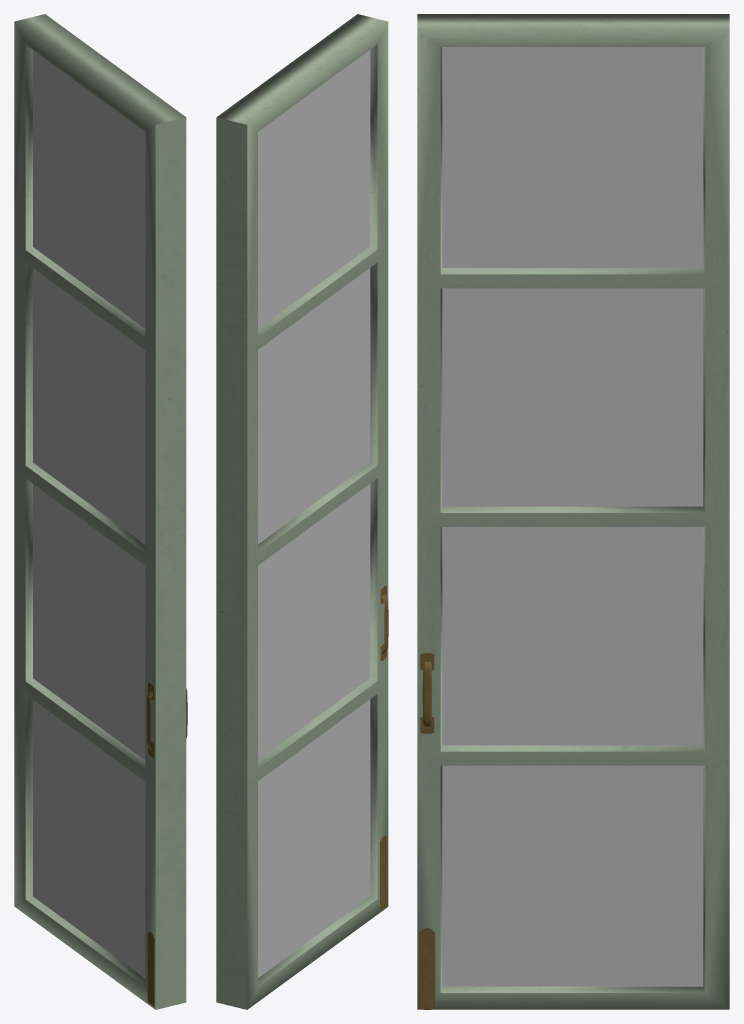
File: SM_SW5_Door_1.fbx
3 views of the same model, side by side, from view 1: azimuth 30°, elevation 25°; view 2: azimuth 150°, elevation 25°; view 3: azimuth 270°, elevation 25° (orthographic). The views are drawn at different scales.
Parts seen in each view (by area): view 1: SM_SW5_Door_1; view 2: SM_SW5_Door_1; view 3: SM_SW5_Door_1.
Boxes of the visible parts, left/top/right/bottom form: SM_SW5_Door_1: left=14, top=14, right=187, bottom=1009; SM_SW5_Door_1: left=216, top=14, right=388, bottom=1009; SM_SW5_Door_1: left=417, top=14, right=729, bottom=1009.
Size of the model in its own units: 9.97 by 64.32 by 222.
3 materials, 2 textured.
